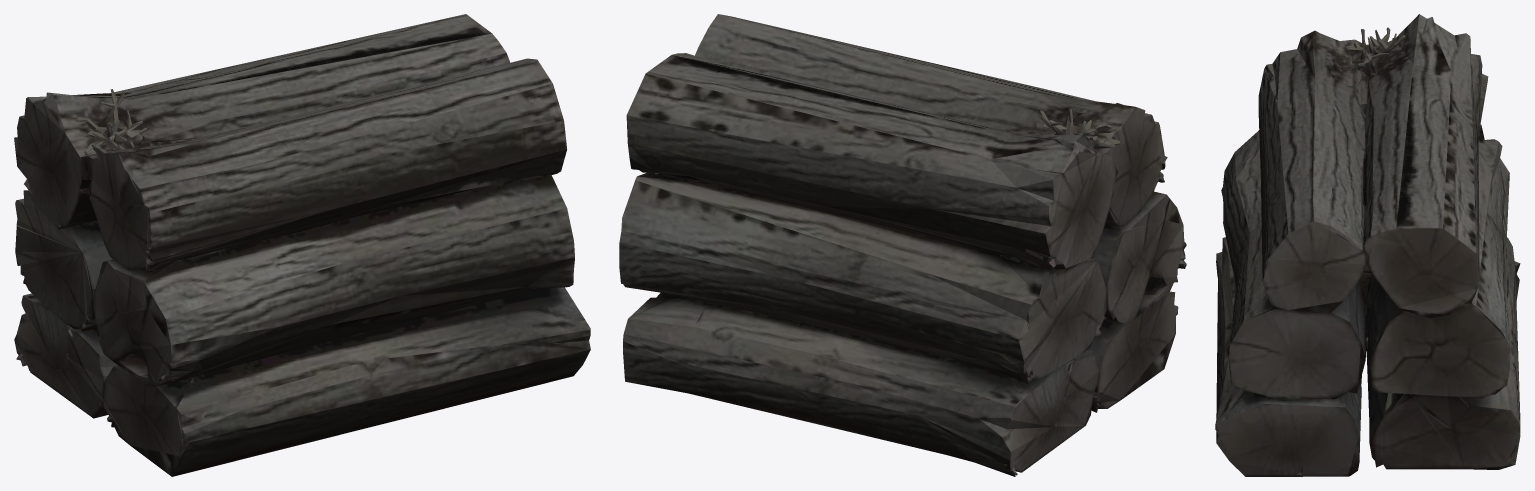
File: bog_logs_01.glb
3 renders of one model, left to right at view 1: azimuth 30°, elevation 25°; view 2: azimuth 150°, elevation 25°; view 3: azimuth 270°, elevation 25°, orthographic. The views are drawn at different scales.
Visible parts, largest first — view 1: geometry_0; view 2: geometry_0; view 3: geometry_0.
Boxes of the visible parts, x1,y1,x2,y2 form: geometry_0: (14,14,590,476); geometry_0: (619,14,1186,476); geometry_0: (1215,14,1520,476).
Size of the model in its own units: 0.9981 by 0.6976 by 0.6873.
1 material, 1 textured.
